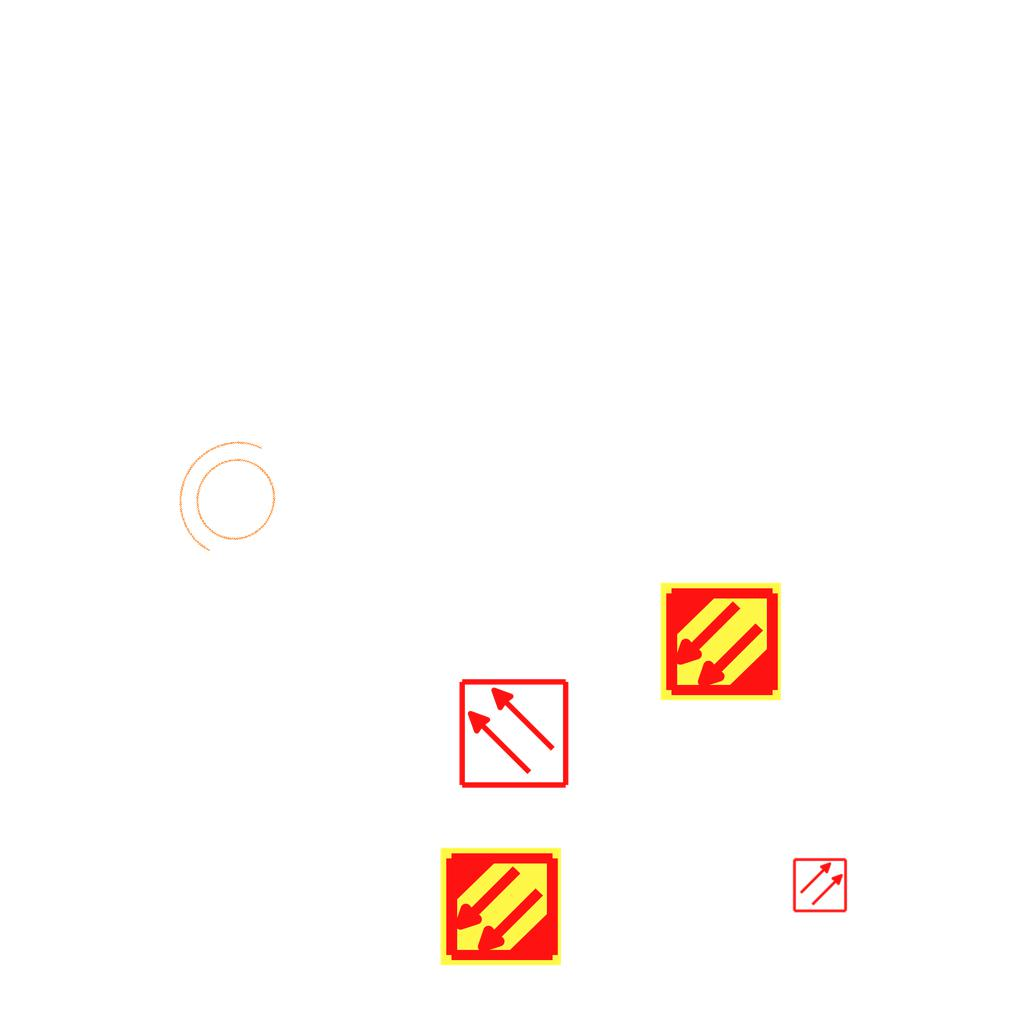ASR_Ansaugrauchmelder: (438, 844, 563, 969), (658, 579, 783, 704)
RMO_Rauchmelder_optischer: (457, 677, 570, 790), (792, 857, 848, 913)
Scheinwerfer_fuer_Alarmbeleuchtung: (150, 415, 310, 585)
